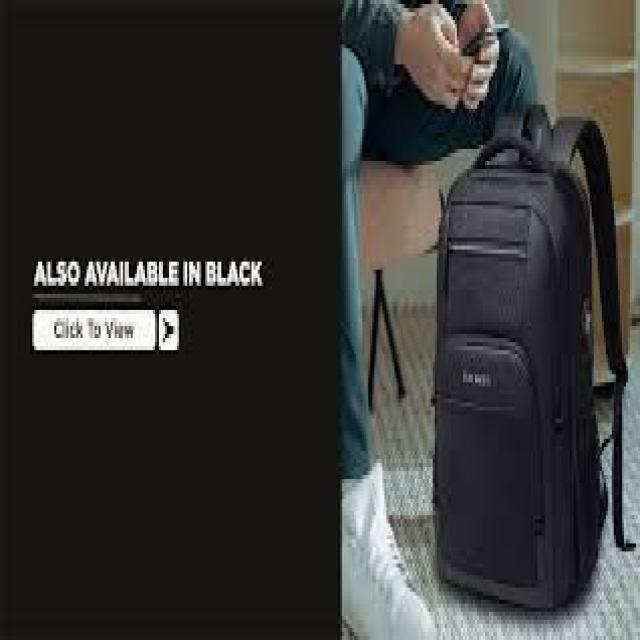backpack: (432, 102, 633, 613)
